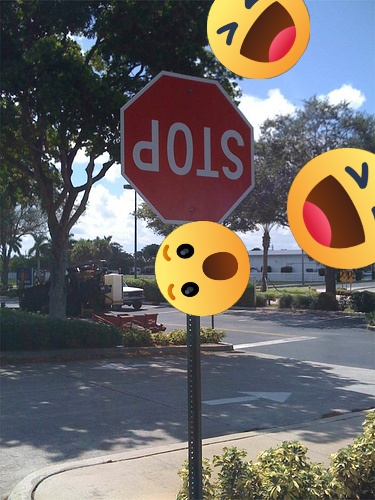haha: (287, 148, 375, 269), (207, 0, 310, 79)
wow: (155, 221, 250, 316)
